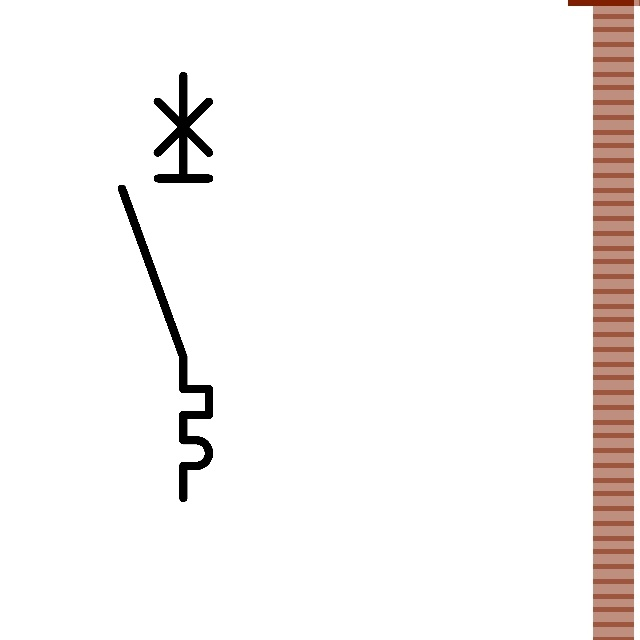interruptor_termomagnetico: (111, 65, 220, 509)
